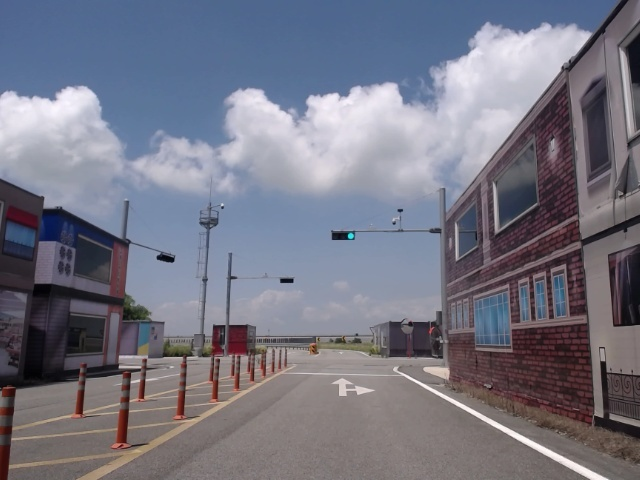green_3: (332, 232, 355, 240)
